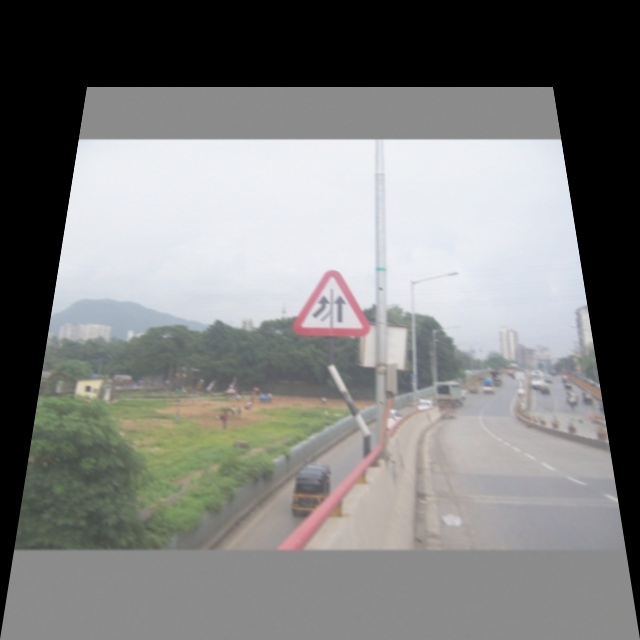Merge_Traffic_Ahead: (289, 262, 367, 342)
